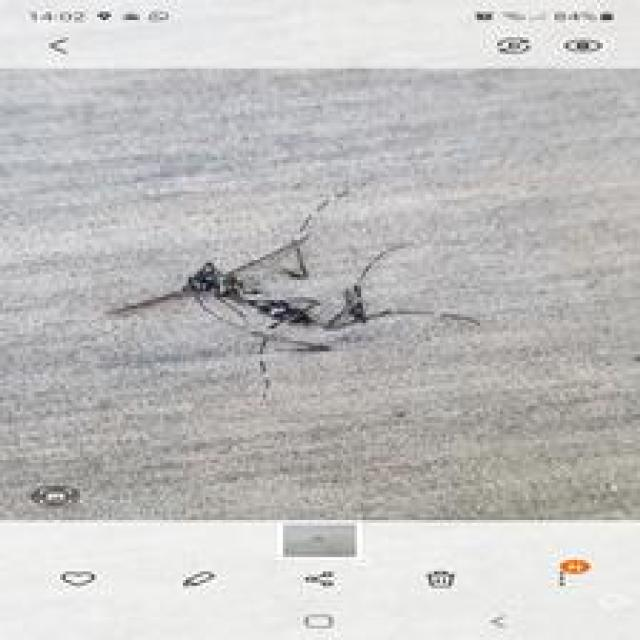Aedes albopictus: (104, 190, 482, 401)
